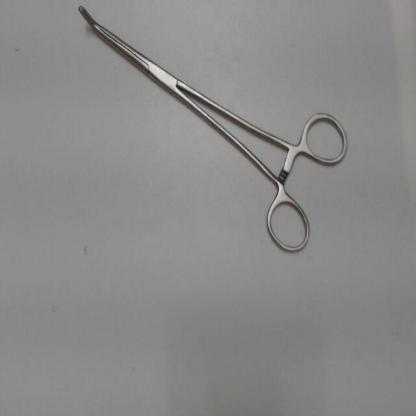Lahey Forceps: (71, 2, 354, 261)
